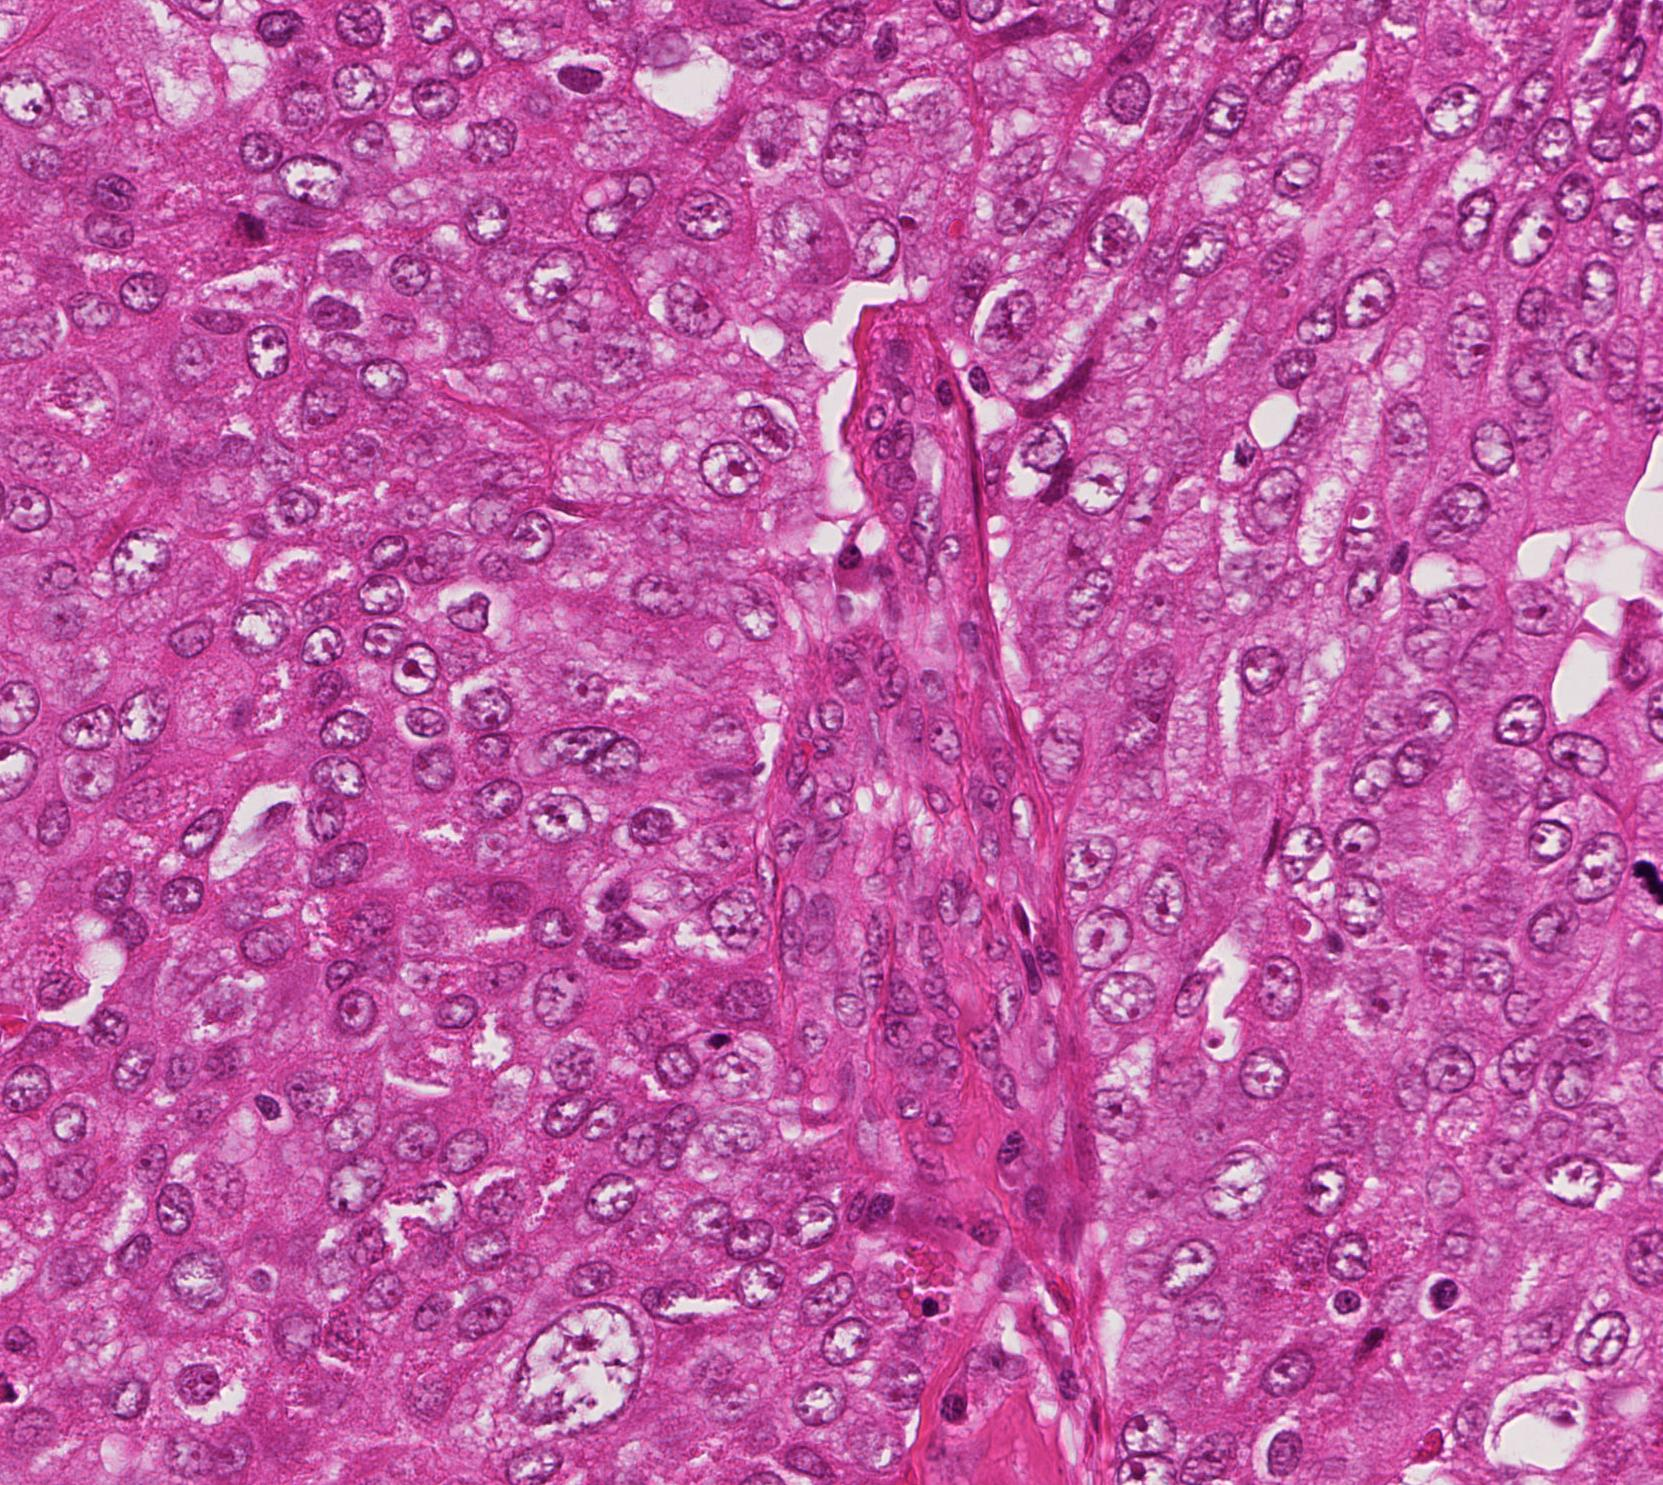mitosis: (205, 186, 265, 247), (1610, 859, 1663, 917)
